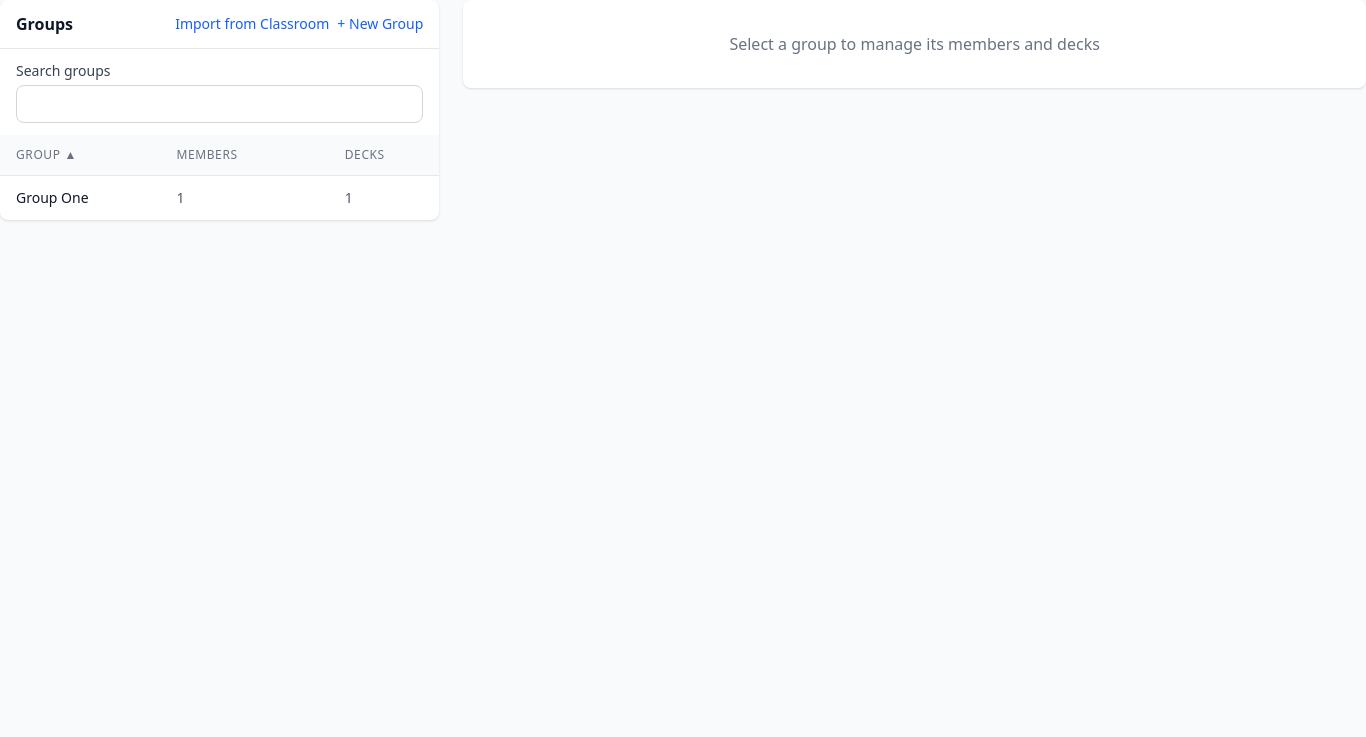
Test: GroupManager › says when the group's settings reached the students who joined
The width and height of the screenshot is (1366, 737).
Click the button "Group One". click: (52, 198)
box: [16, 188, 89, 208]
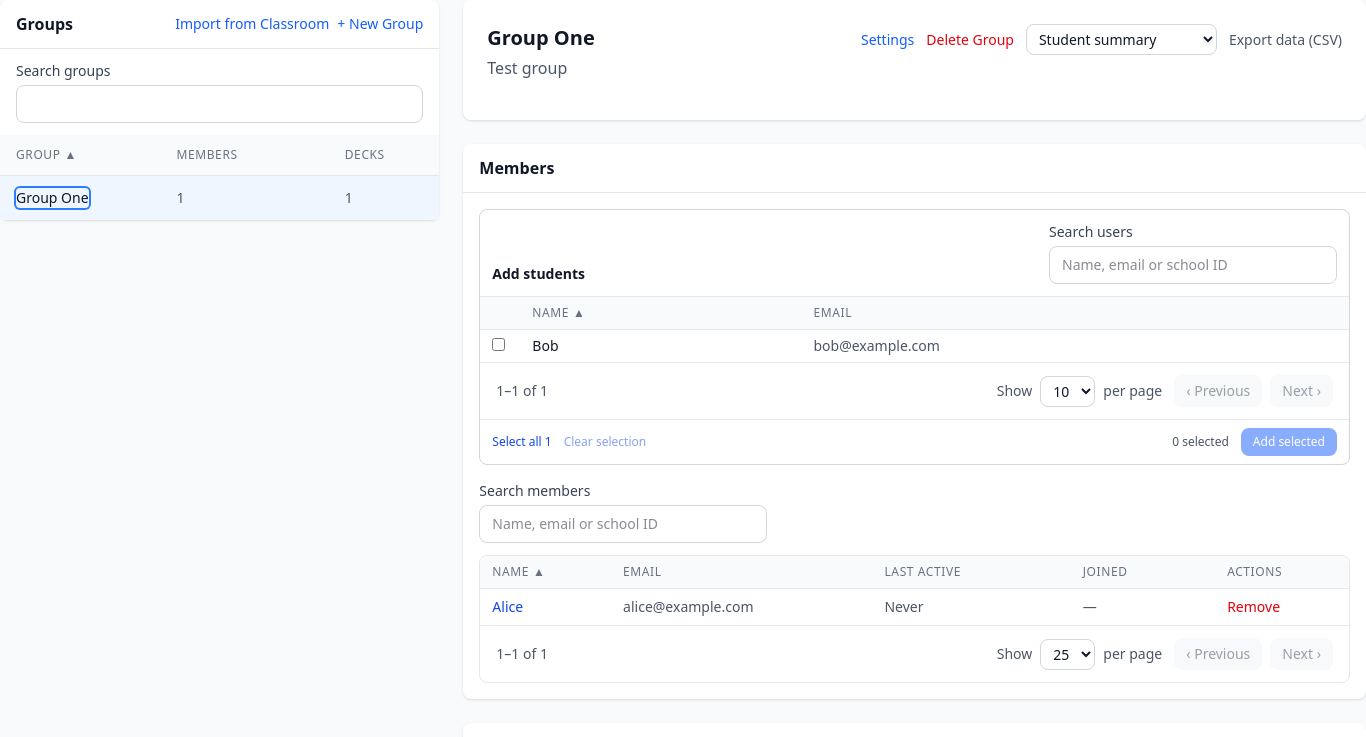
Type "bob" into the search field labelled "Search users". click: (1193, 265)
box: [1049, 246, 1337, 284]
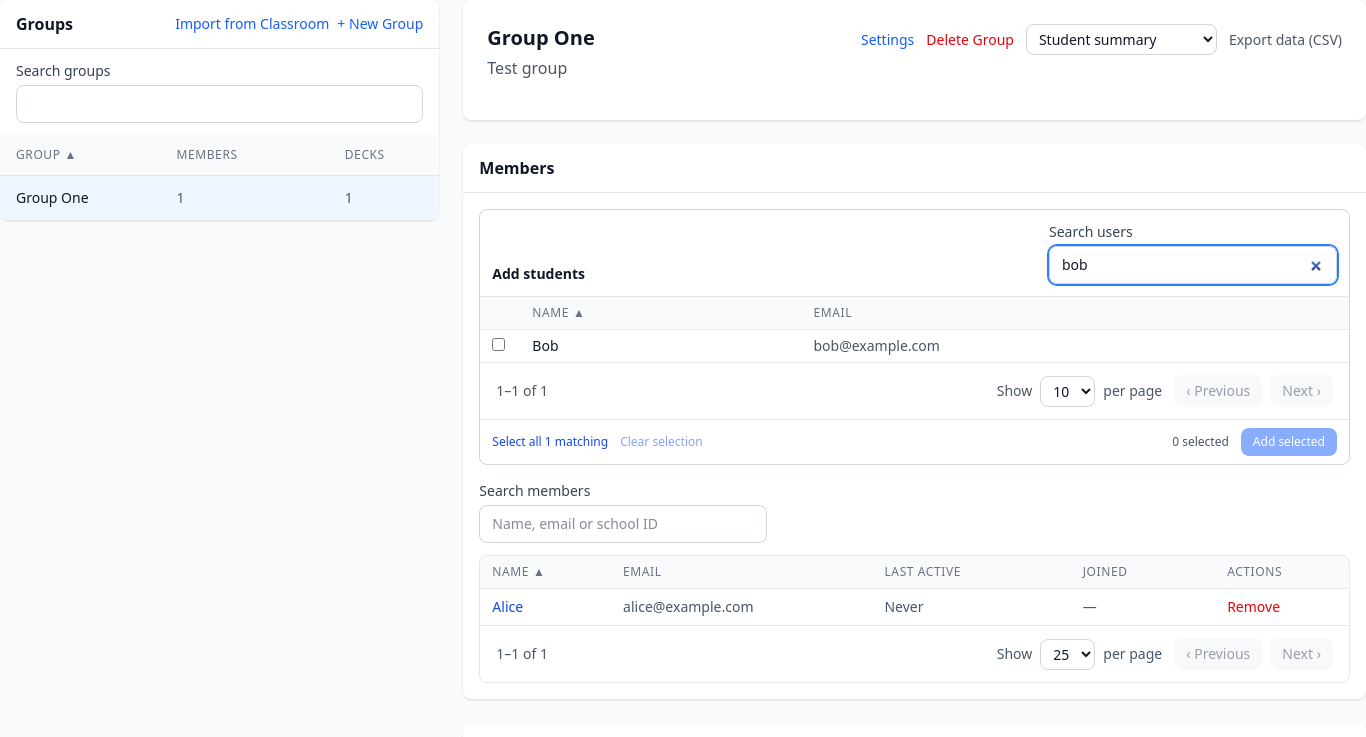
Click the checkbox labelled "Bob". click: (499, 344)
box: [492, 338, 505, 351]
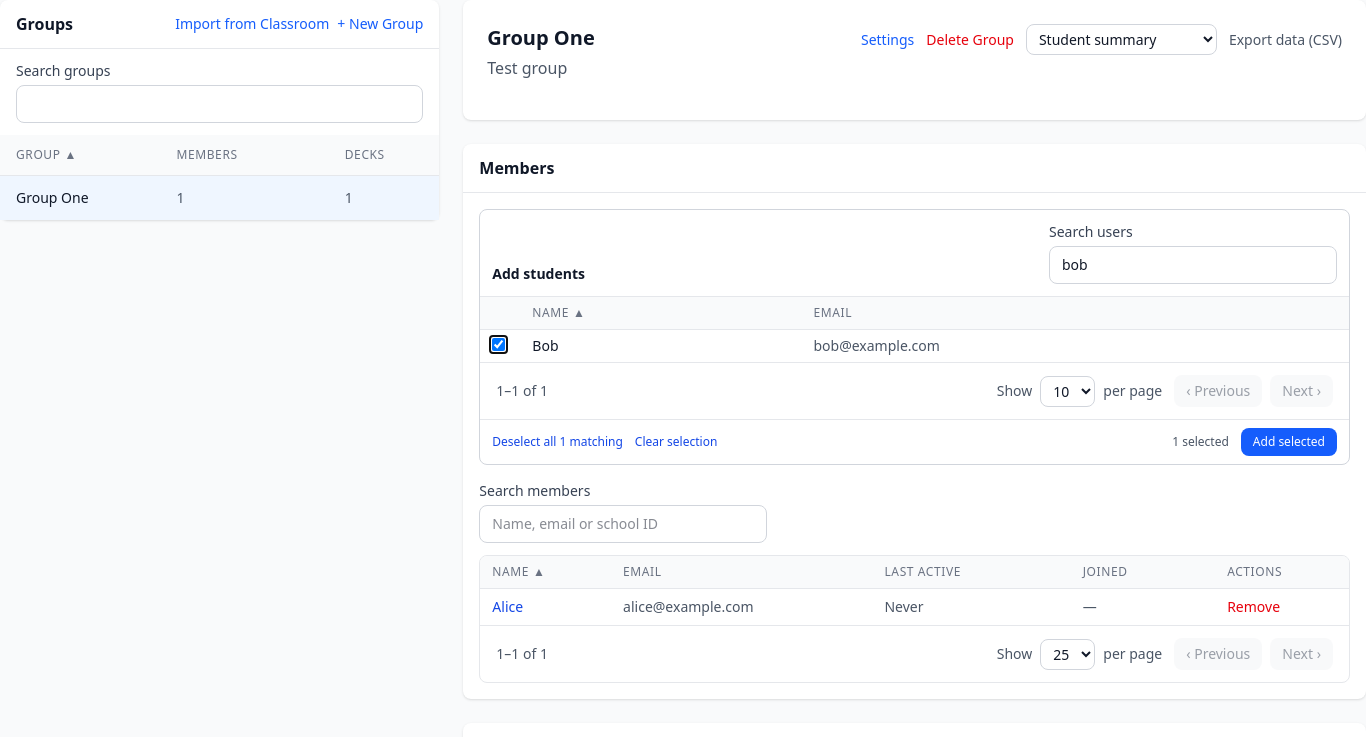
Click the button "Add selected". click: (1289, 442)
box: [1241, 428, 1337, 456]
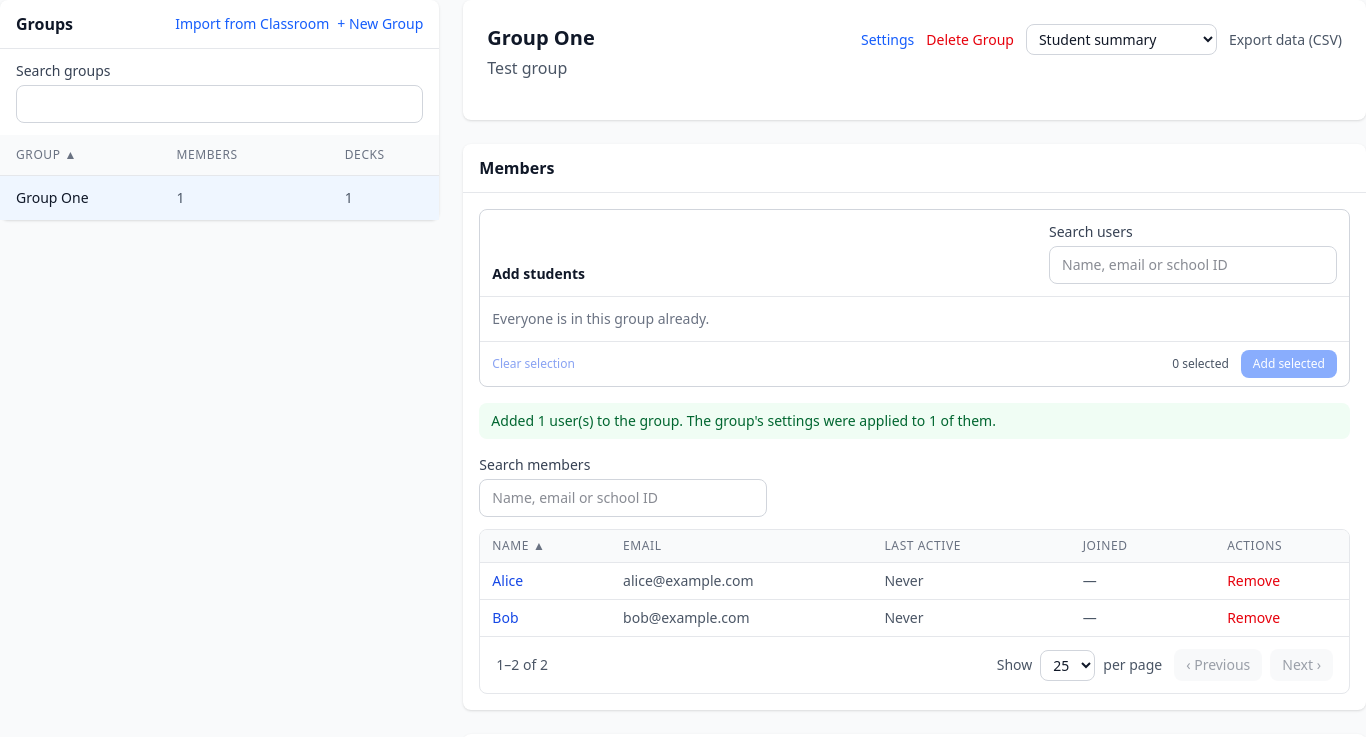
Result: the text "Added 1 user(s) to the group. The group's settings were applied to 1 of them." is shown at [479, 403, 1350, 439]
